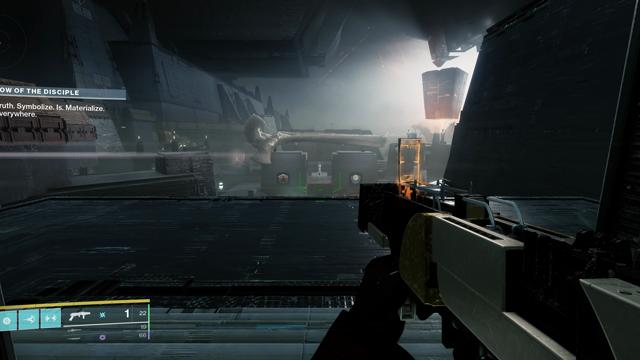pyramid: (278, 174, 288, 185)
traveler: (351, 174, 361, 184)
